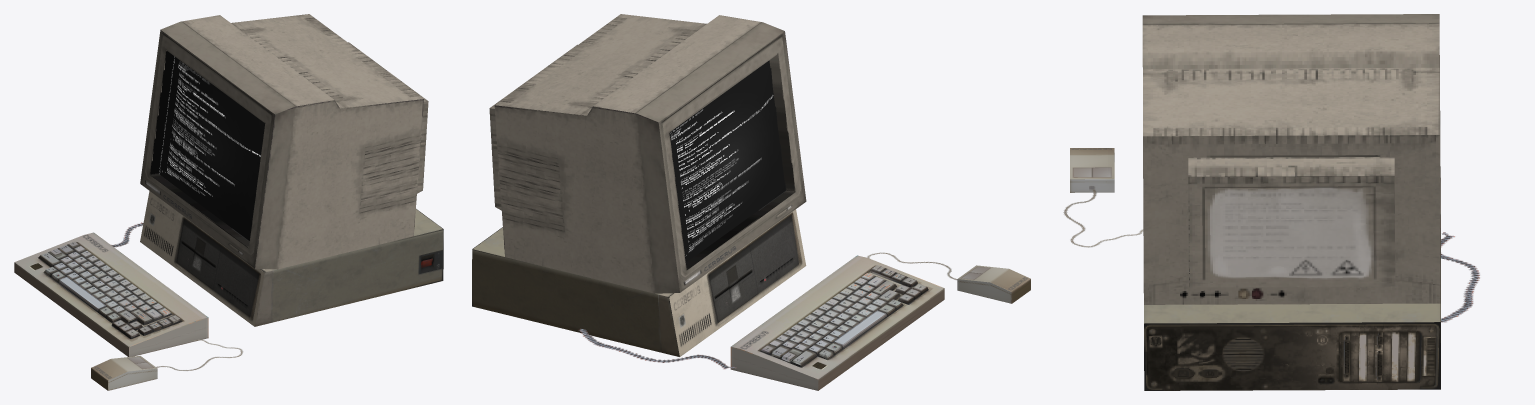
Rendered from desktop2.glb.
The picture shows the model from 3 angles, left to right: view 1: azimuth 30°, elevation 25°; view 2: azimuth 150°, elevation 25°; view 3: azimuth 270°, elevation 25°; orthographic projection. The views are drawn at different scales.
Visible parts, largest first — view 1: Computer1; view 2: Computer1; view 3: Computer1.
Boxes of the visible parts, x1,y1,x2,y2 form: Computer1: (14, 14, 443, 390); Computer1: (472, 14, 1030, 390); Computer1: (1063, 14, 1479, 390).
Size of the model in its own units: 0.9708 by 0.538 by 0.8192.
2 materials, 2 textured.
